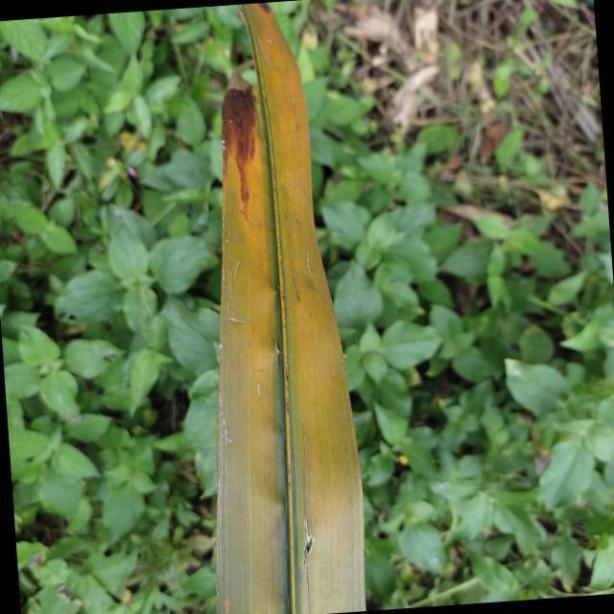Megnesium: (216, 0, 368, 614)
